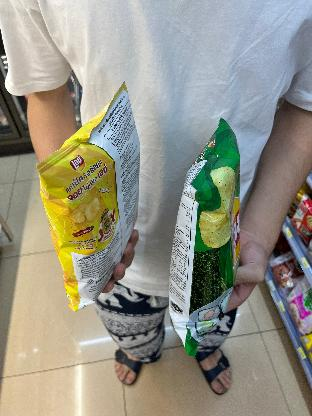Plastic Packaging: (35, 81, 141, 314), (161, 116, 249, 354)
